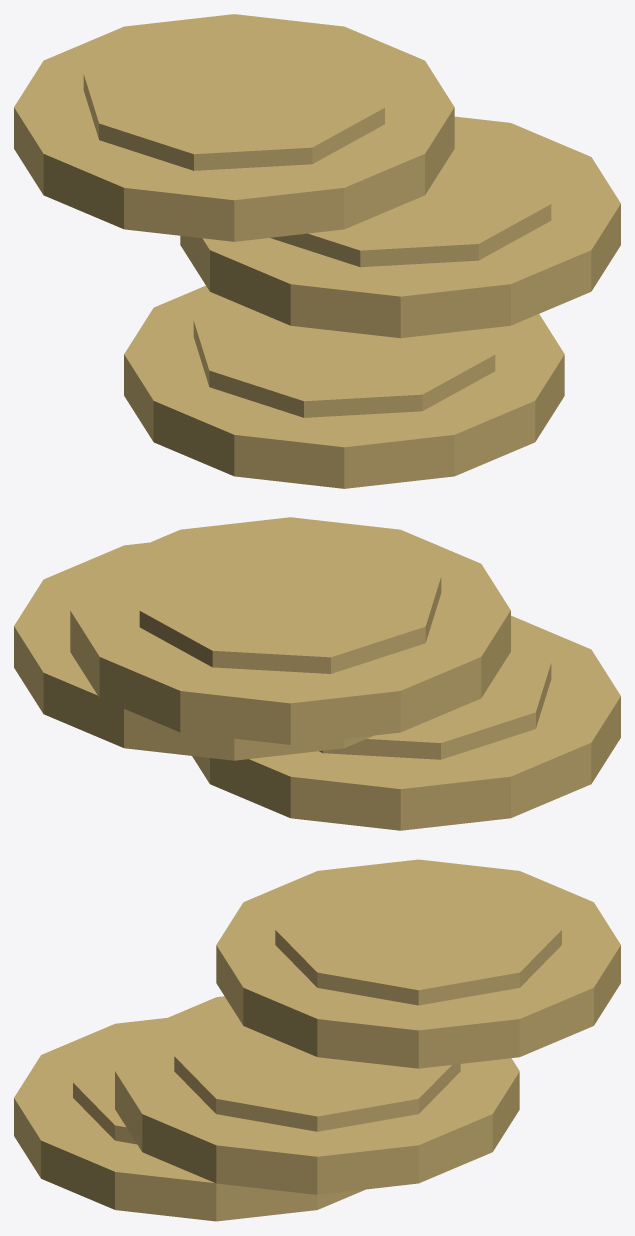
Rendered from item_116_coin_m.glb.
The picture shows the model from 3 angles, top to bottom: view 1: azimuth 30°, elevation 25°; view 2: azimuth 150°, elevation 25°; view 3: azimuth 270°, elevation 25°; orthographic projection. The views are drawn at different scales.
Parts seen in each view (by area): view 1: item_116_coin_m; view 2: item_116_coin_m; view 3: item_116_coin_m.
Boxes of the visible parts, bbox=[...] form: item_116_coin_m: bbox=[14, 14, 620, 488]; item_116_coin_m: bbox=[14, 517, 620, 830]; item_116_coin_m: bbox=[14, 859, 620, 1221].
Bounding box in the file's own units: 0.31 × 0.135 × 0.36.
